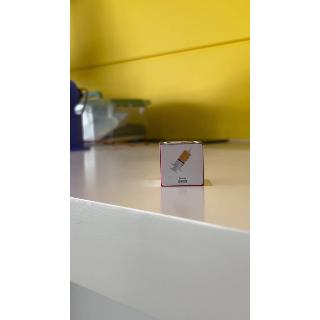Syringe: (162, 145, 206, 186)
